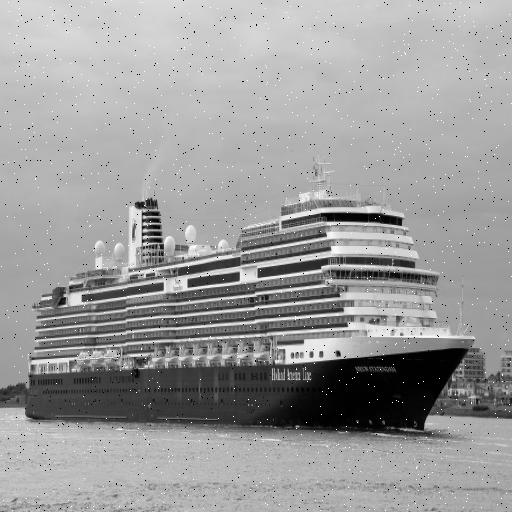cruises: (23, 164, 480, 445)
